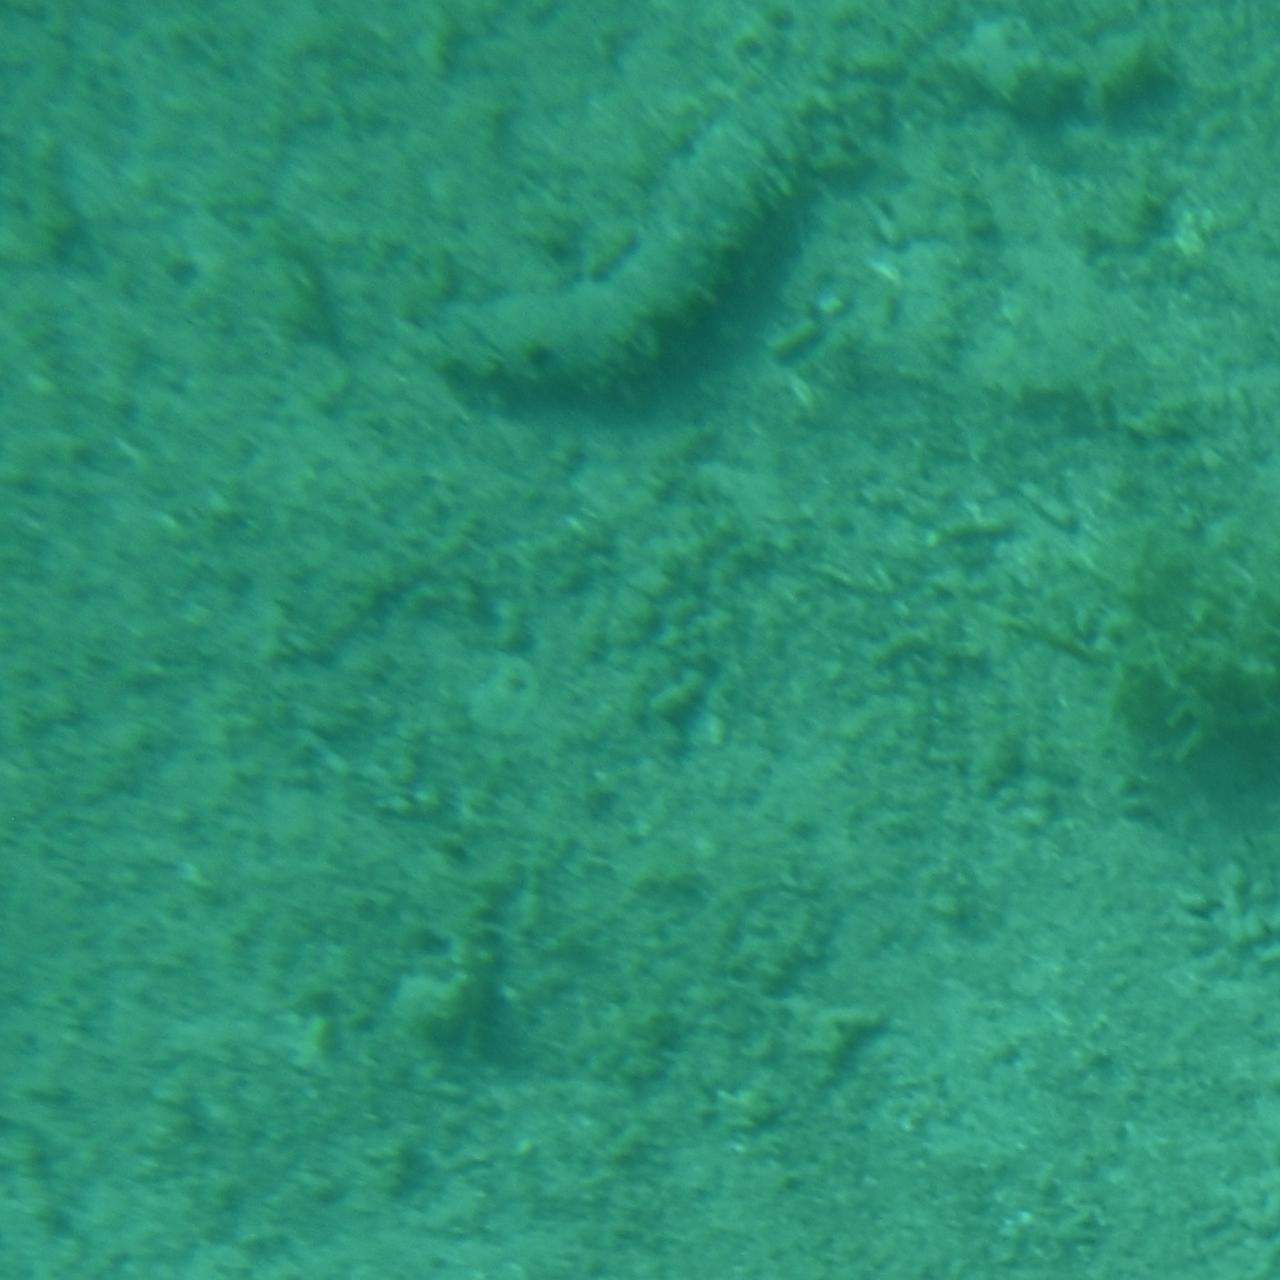Holothuria tubulosa: (432, 83, 848, 425)
